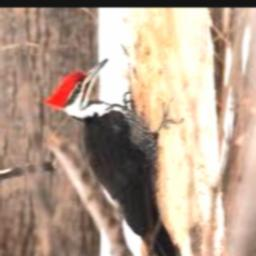Woodpecker: (44, 57, 181, 256)
